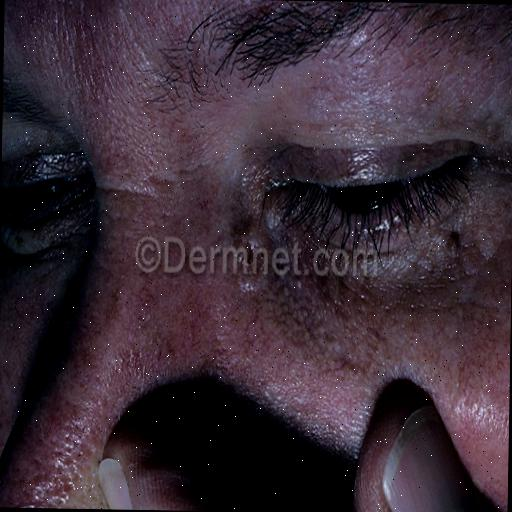Skin_Lesion: (22, 440, 82, 499)
